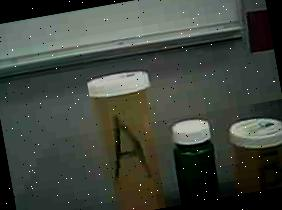Bottle A: (80, 62, 174, 210)
Bottle B: (223, 110, 282, 195)
Bottle C: (164, 111, 228, 205)
